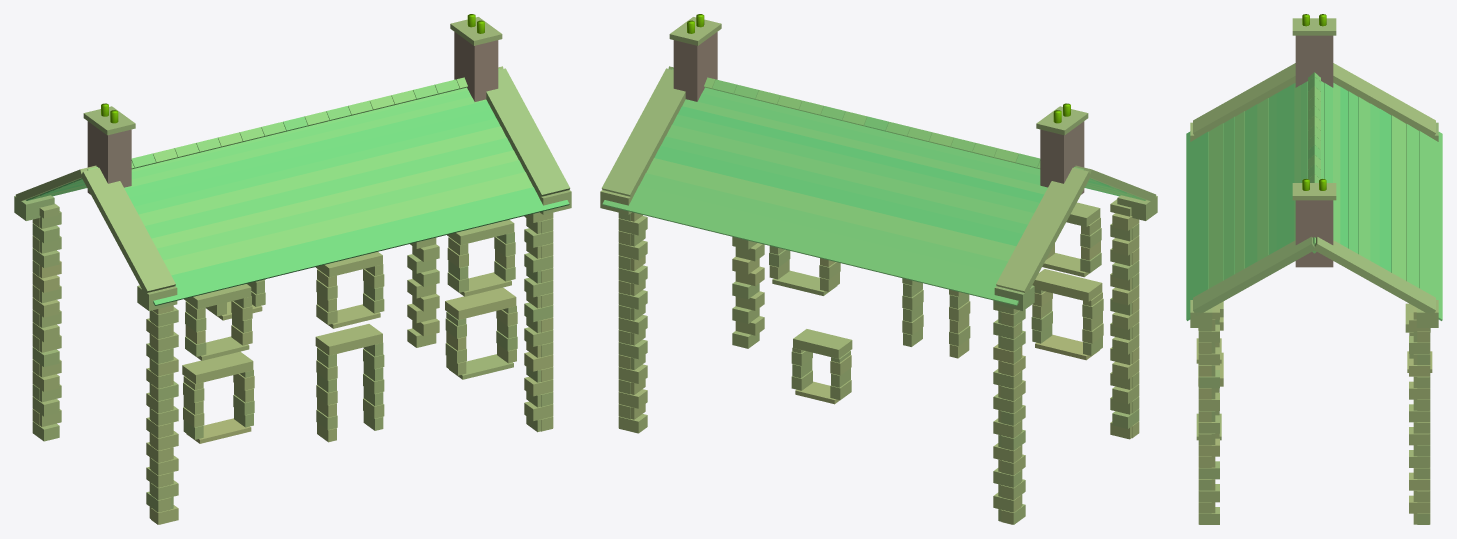
Rendered from SM_Bld_028_Stone.glb.
3 renders of one model, left to right at view 1: azimuth 30°, elevation 25°; view 2: azimuth 150°, elevation 25°; view 3: azimuth 270°, elevation 25°, orthographic. The views are drawn at different scales.
Parts seen in each view (by area): view 1: SM_Bld_028_Stone; view 2: SM_Bld_028_Stone; view 3: SM_Bld_028_Stone.
Part boxes in pixels (x1,y1,x2,y2): SM_Bld_028_Stone: (14,14,571,524); SM_Bld_028_Stone: (600,14,1157,524); SM_Bld_028_Stone: (1186,14,1442,524).
Size of the model in its own units: 10.72 by 8.9 by 6.11.
